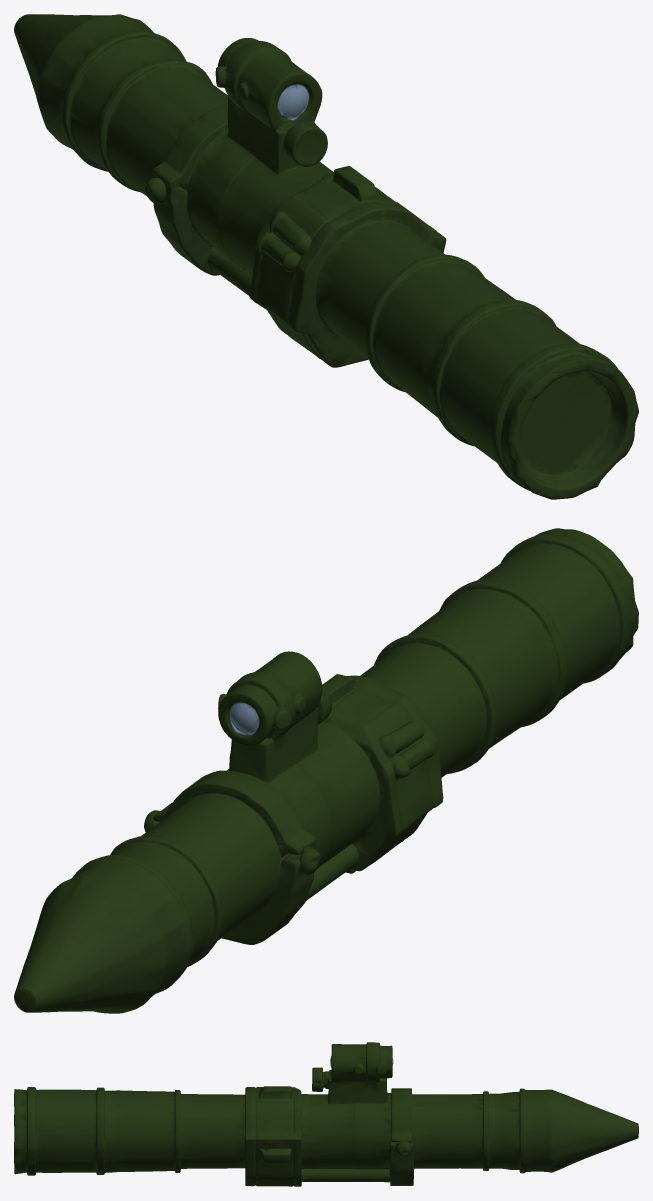
The model's file is rocket_launcher.glb.
The picture shows the model from 3 angles, top to bottom: view 1: azimuth 30°, elevation 25°; view 2: azimuth 150°, elevation 25°; view 3: azimuth 270°, elevation 25°; orthographic projection. The views are drawn at different scales.
Visible parts, largest first — view 1: geometry_0; view 2: geometry_0; view 3: geometry_0.
Part boxes in pixels (x1,y1,x2,y2): geometry_0: (14, 14, 638, 499); geometry_0: (14, 528, 638, 1013); geometry_0: (14, 1042, 638, 1186).
Size of the model in its own units: 0.1954 by 0.2727 by 1.1.
1 material, 1 textured.
